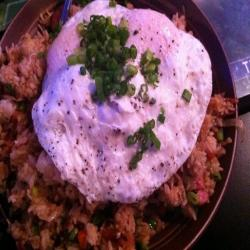omelette: (37, 5, 213, 209)
rice: (5, 155, 79, 249)
